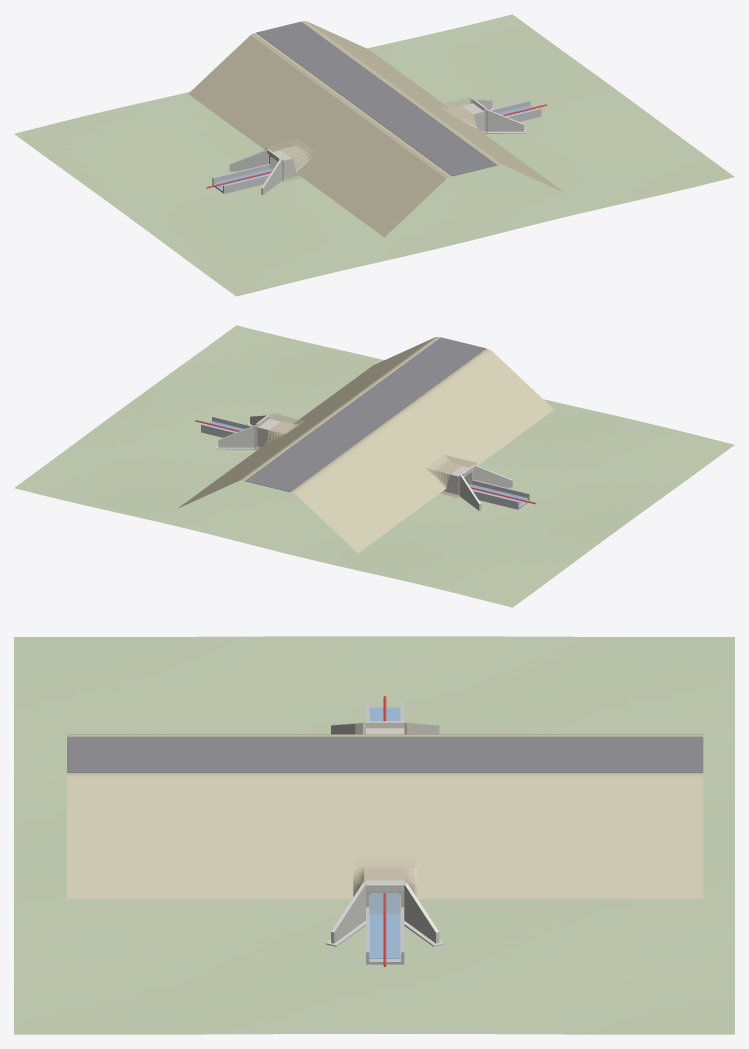
3 renders of one model, top to bottom at view 1: azimuth 30°, elevation 25°; view 2: azimuth 150°, elevation 25°; view 3: azimuth 270°, elevation 25°, orthographic. The views are drawn at different scales.
Parts seen in each view (by area): view 1: 地形|現況地形 (参考), 土工|道路盛土 (参考, 天端幅9.5m H=5.0m 法1:1.5), 道路|道路舗装 (参考), 記号|埋戻し範囲記号 (BOX 周辺), 取付水路|取付水路 (上流, コンクリート三面張り L=10m), 翼壁|翼壁 (下流左, 斜め30° L=6m), 取付水路|取付水路 (下流, コンクリート三面張り L=10m), 翼壁|翼壁 (上流右, 斜め30° L=6m), 地形|水面 (参考); view 2: 地形|現況地形 (参考), 土工|道路盛土 (参考, 天端幅9.5m H=5.0m 法1:1.5), 道路|道路舗装 (参考), 記号|埋戻し範囲記号 (BOX 周辺), 取付水路|取付水路 (上流, コンクリート三面張り L=10m), 翼壁|翼壁 (下流右, 斜め30° L=6m), 取付水路|取付水路 (下流, コンクリート三面張り L=10m), 翼壁|翼壁 (上流左, 斜め30° L=6m), 地形|水面 (参考); view 3: 地形|現況地形 (参考), 土工|道路盛土 (参考, 天端幅9.5m H=5.0m 法1:1.5), 道路|道路舗装 (参考), 記号|埋戻し範囲記号 (BOX 周辺), 地形|水面 (参考), 取付水路|取付水路 (下流, コンクリート三面張り L=10m), 翼壁|翼壁 (下流右, 斜め30° L=6m), 翼壁|翼壁 (下流左, 斜め30° L=6m).
Boxes of the visible parts, x1=… form: 地形|現況地形 (参考): x1=14, y1=14, x2=734, y2=296; 土工|道路盛土 (参考, 天端幅9.5m H=5.0m 法1:1.5): x1=188, y1=21, x2=564, y2=237; 道路|道路舗装 (参考): x1=256, y1=21, x2=497, y2=176; 記号|埋戻し範囲記号 (BOX 周辺): x1=265, y1=97, x2=487, y2=181; 取付水路|取付水路 (上流, コンクリート三面張り L=10m): x1=212, y1=164, x2=269, y2=193; 翼壁|翼壁 (下流左, 斜め30° L=6m): x1=484, y1=108, x2=523, y2=131; 取付水路|取付水路 (下流, コンクリート三面張り L=10m): x1=490, y1=100, x2=541, y2=121; 翼壁|翼壁 (上流右, 斜め30° L=6m): x1=229, y1=148, x2=268, y2=171; 地形|水面 (参考): x1=213, y1=105, x2=535, y2=189; 地形|現況地形 (参考): x1=14, y1=325, x2=734, y2=607; 土工|道路盛土 (参考, 天端幅9.5m H=5.0m 法1:1.5): x1=178, y1=337, x2=553, y2=552; 道路|道路舗装 (参考): x1=245, y1=337, x2=485, y2=491; 記号|埋戻し範囲記号 (BOX 周辺): x1=254, y1=413, x2=476, y2=497; 取付水路|取付水路 (上流, コンクリート三面張り L=10m): x1=472, y1=479, x2=529, y2=509; 翼壁|翼壁 (下流右, 斜め30° L=6m): x1=218, y1=424, x2=257, y2=447; 取付水路|取付水路 (下流, コンクリート三面張り L=10m): x1=201, y1=416, x2=252, y2=437; 翼壁|翼壁 (上流左, 斜め30° L=6m): x1=473, y1=464, x2=512, y2=487; 地形|水面 (参考): x1=206, y1=421, x2=528, y2=505; 地形|現況地形 (参考): x1=14, y1=636, x2=734, y2=1034; 土工|道路盛土 (参考, 天端幅9.5m H=5.0m 法1:1.5): x1=67, y1=734, x2=703, y2=898; 道路|道路舗装 (参考): x1=67, y1=736, x2=703, y2=772; 記号|埋戻し範囲記号 (BOX 周辺): x1=355, y1=722, x2=414, y2=916; 地形|水面 (参考): x1=369, y1=707, x2=400, y2=958; 取付水路|取付水路 (下流, コンクリート三面張り L=10m): x1=366, y1=907, x2=404, y2=964; 翼壁|翼壁 (下流右, 斜め30° L=6m): x1=404, y1=883, x2=439, y2=943; 翼壁|翼壁 (下流左, 斜め30° L=6m): x1=331, y1=883, x2=365, y2=943.
Bounding box in the file's own units: 88 × 9.35 × 68.
